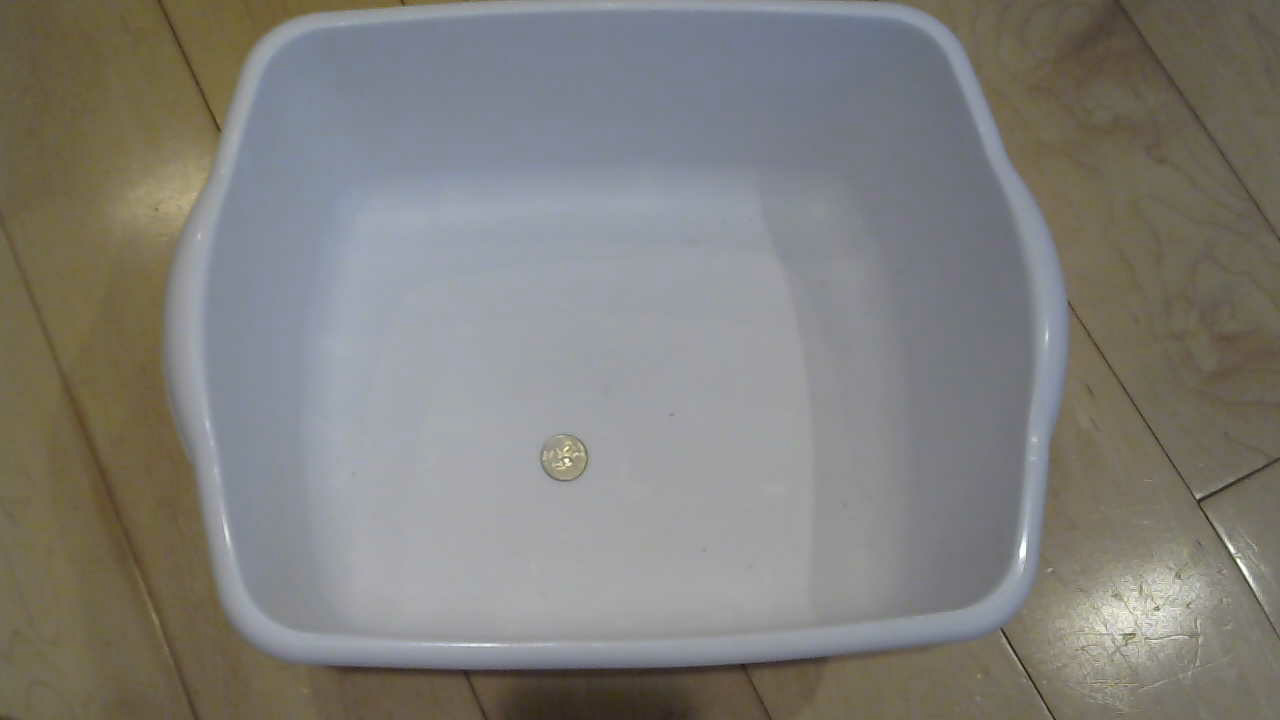coin: (531, 436, 611, 492)
